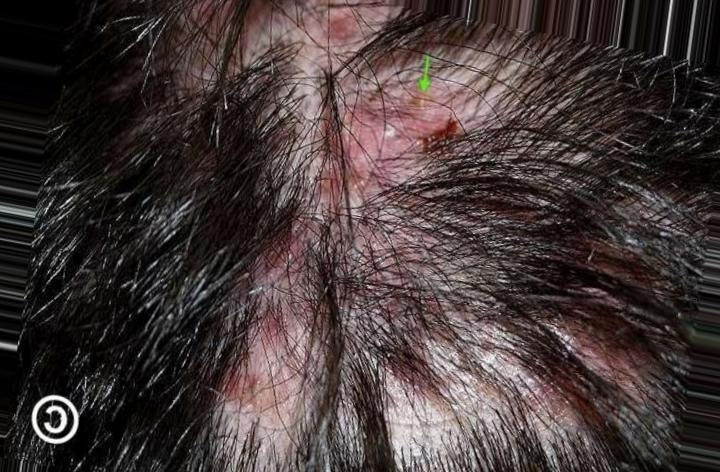Folliculitis: (209, 46, 534, 446)
